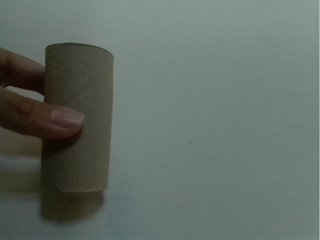rollo papel: (34, 41, 115, 198)
